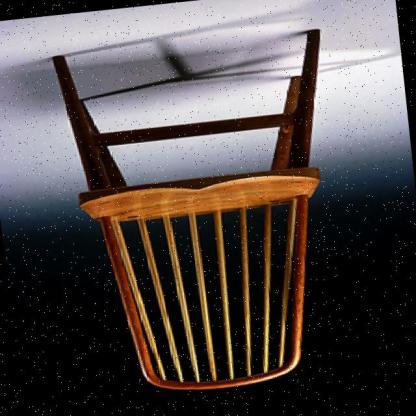Chair: (21, 6, 383, 416)
